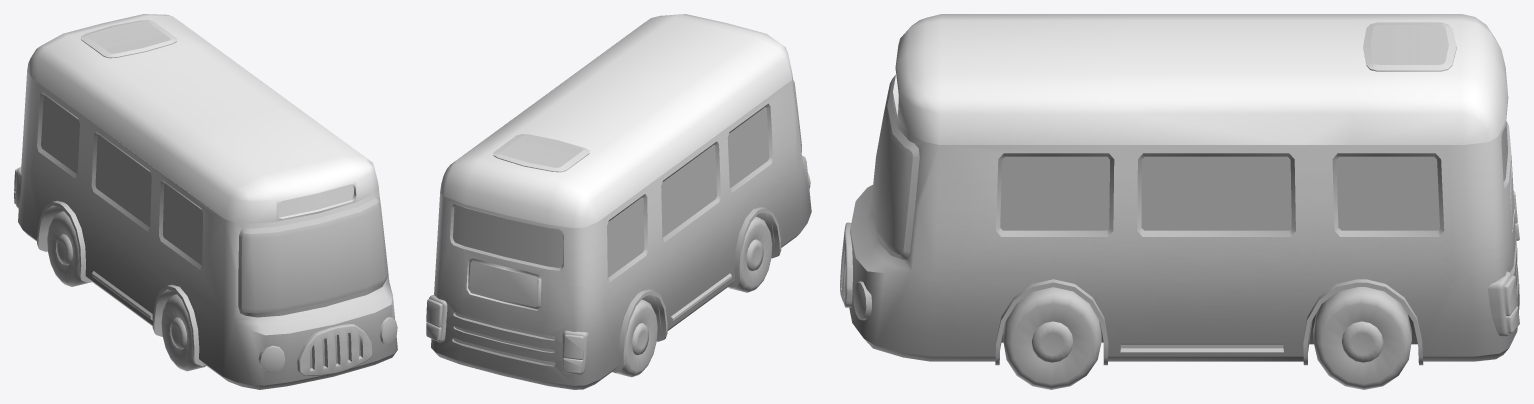
The model's file is Bus.fbx.
3 views of the same model, side by side, from view 1: azimuth 30°, elevation 25°; view 2: azimuth 150°, elevation 25°; view 3: azimuth 270°, elevation 25° (orthographic). The views are drawn at different scales.
Parts seen in each view (by area): view 1: Bus_roof, Bus_body_color, Window, Bus_additional_stuff, Plane, Wheel_M_R, Wheel_F_R, Bus_additional_light; view 2: Bus_roof, Bus_body_color, Window, Bus_additional_stuff, Bus_additional_light2, Wheel_M_R, Wheel_F_R; view 3: Bus_body_color, Bus_roof, Window, Wheel_M_L, Wheel_F, Bus_additional_stuff, Bus_additional_light2, Plane, Bus_additional_light.
Part boxes in pixels (x1,y1,x2,y2): Bus_roof: (27,14,378,223); Bus_body_color: (18,70,397,389); Window: (37,92,388,317); Bus_additional_stuff: (37,200,355,365); Plane: (297,324,372,375); Wheel_M_R: (47,211,87,286); Wheel_F_R: (161,294,206,371); Bus_additional_light: (258,317,397,373); Bus_roof: (440,14,792,227); Bus_body_color: (431,76,811,389); Window: (450,79,801,281); Bus_additional_stuff: (454,207,781,372); Bus_additional_light2: (426,295,588,374); Wheel_M_R: (613,299,657,377); Wheel_F_R: (728,216,772,292); Bus_body_color: (849,95,1519,361); Bus_roof: (893,14,1507,144); Window: (871,75,1511,259); Wheel_M_L: (1313,287,1411,389); Wheel_F: (1003,287,1101,389); Bus_additional_stuff: (995,279,1423,365); Bus_additional_light2: (1488,191,1519,336); Plane: (840,222,852,307); Bus_additional_light: (853,281,871,320).
Bounding box in the file's own units: 421 × 500 × 1053.
